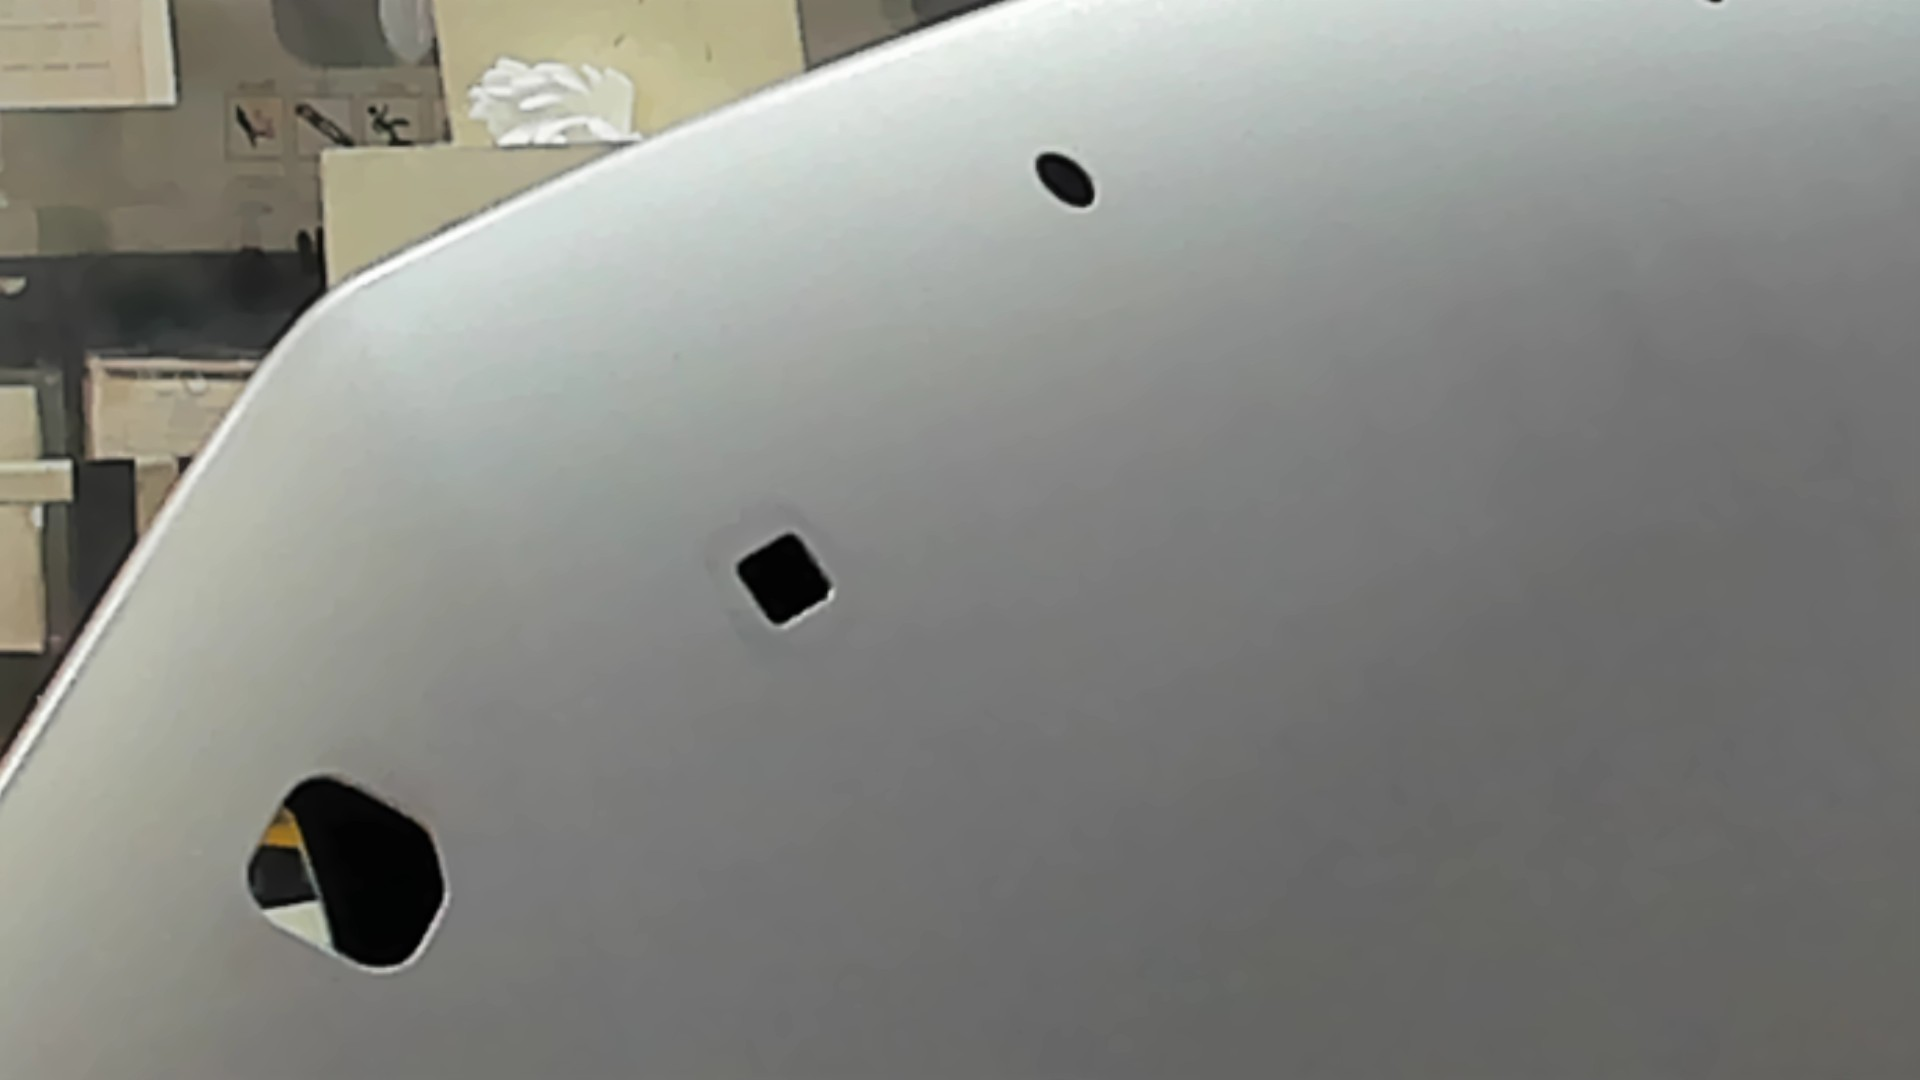Agujero: (731, 529, 833, 629), (1033, 150, 1097, 210)
Agujerote: (244, 774, 452, 975)
